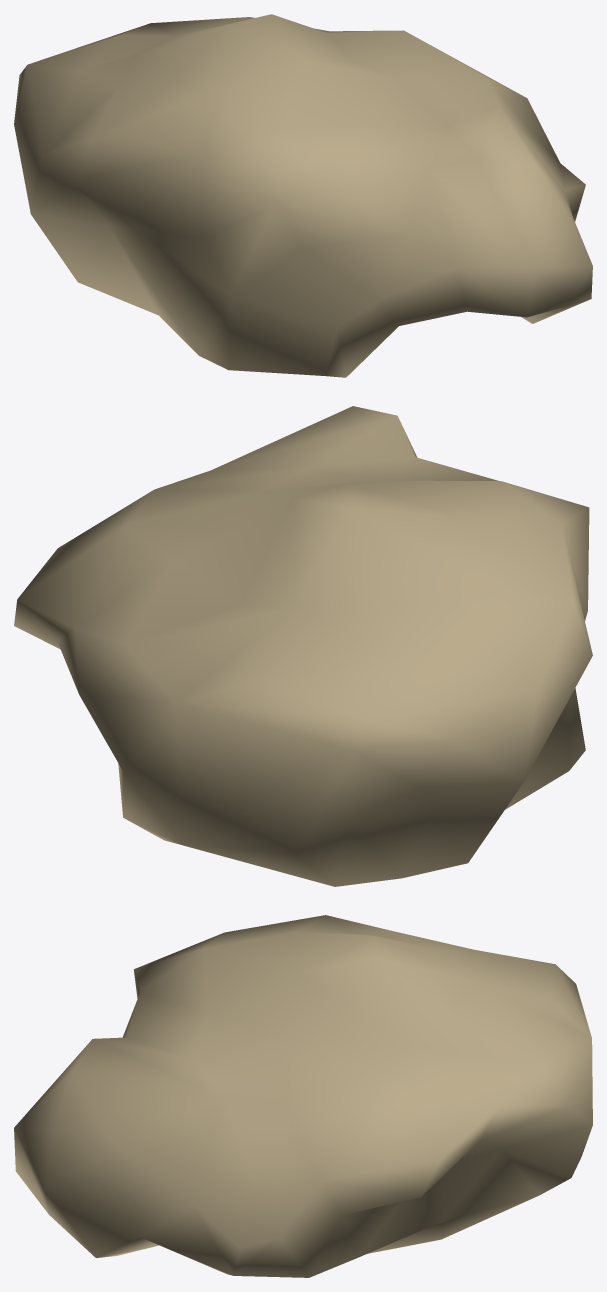
The model's file is pebble19_low.fbx.
The picture shows the model from 3 angles, top to bottom: view 1: azimuth 30°, elevation 25°; view 2: azimuth 150°, elevation 25°; view 3: azimuth 270°, elevation 25°; orthographic projection. The views are drawn at different scales.
Visible parts, largest first — view 1: pebble19_low; view 2: pebble19_low; view 3: pebble19_low.
Boxes of the visible parts, bbox=[...] form: pebble19_low: bbox=[14, 14, 592, 377]; pebble19_low: bbox=[14, 406, 592, 886]; pebble19_low: bbox=[14, 915, 592, 1277].
Bounding box in the file's own units: 0.9005 × 0.4898 × 0.9924.
